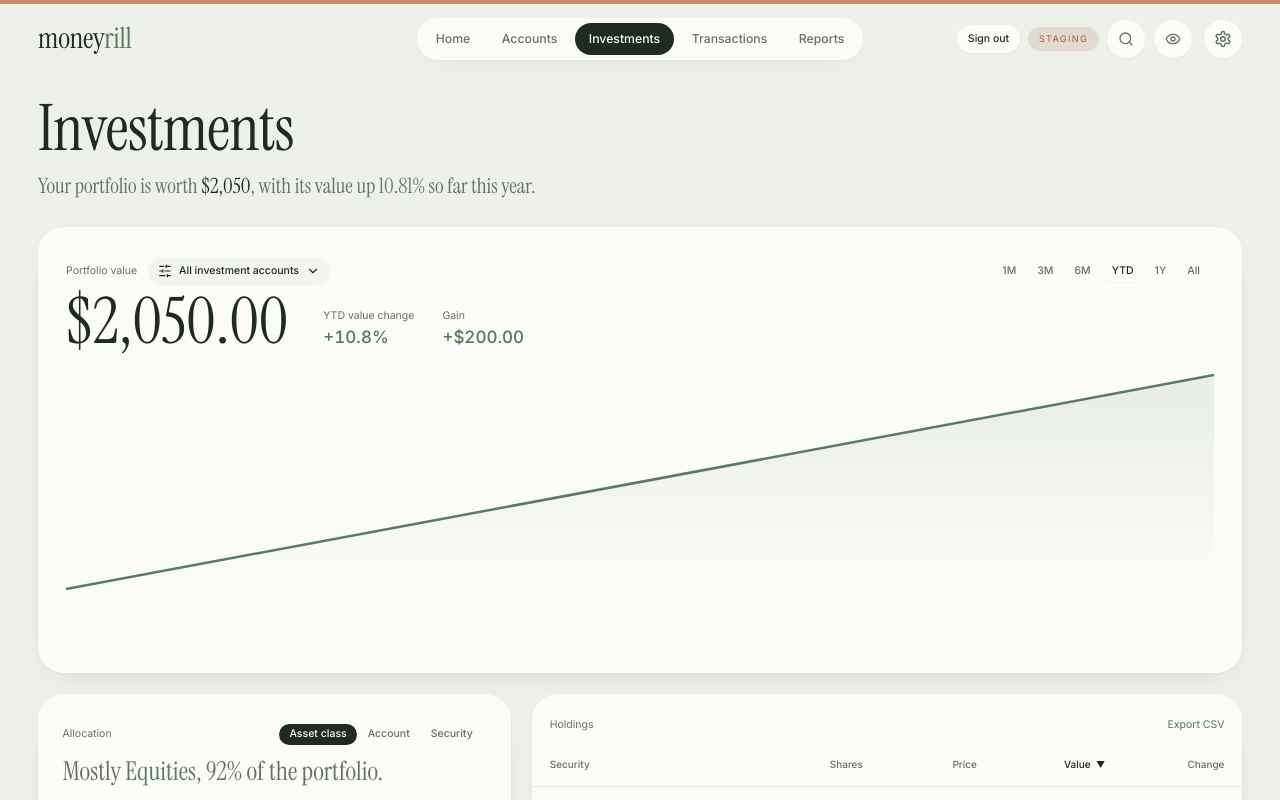
Test: Investment account picker › Clear goes back to every account
Expected: the text "Portfolio value" is shown, top-left (66, 264), bottom-right (137, 278)
Click the button "All investment accounts" at {"x": 239, "y": 271}, box top-left (148, 257), bottom-right (331, 285)
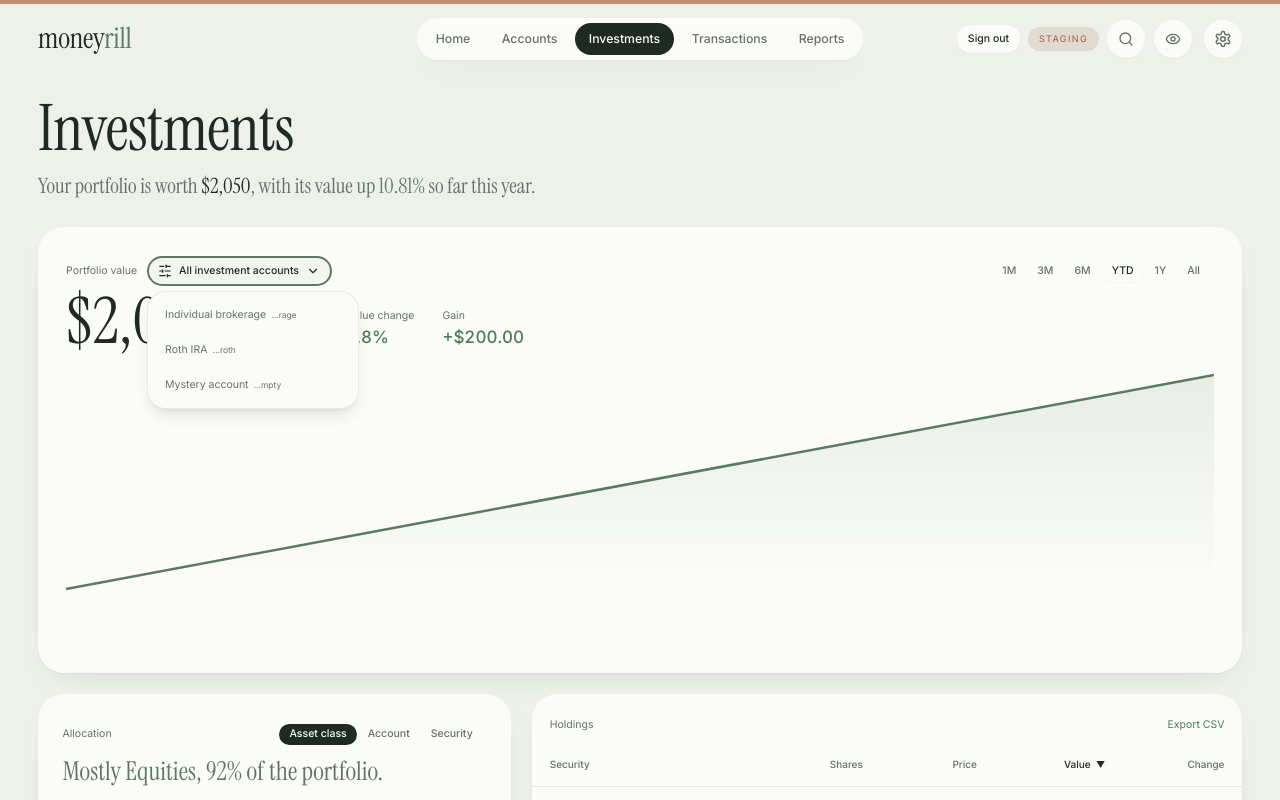
Click the button "Roth IRA…roth" at {"x": 253, "y": 350}, box top-left (155, 334), bottom-right (351, 366)
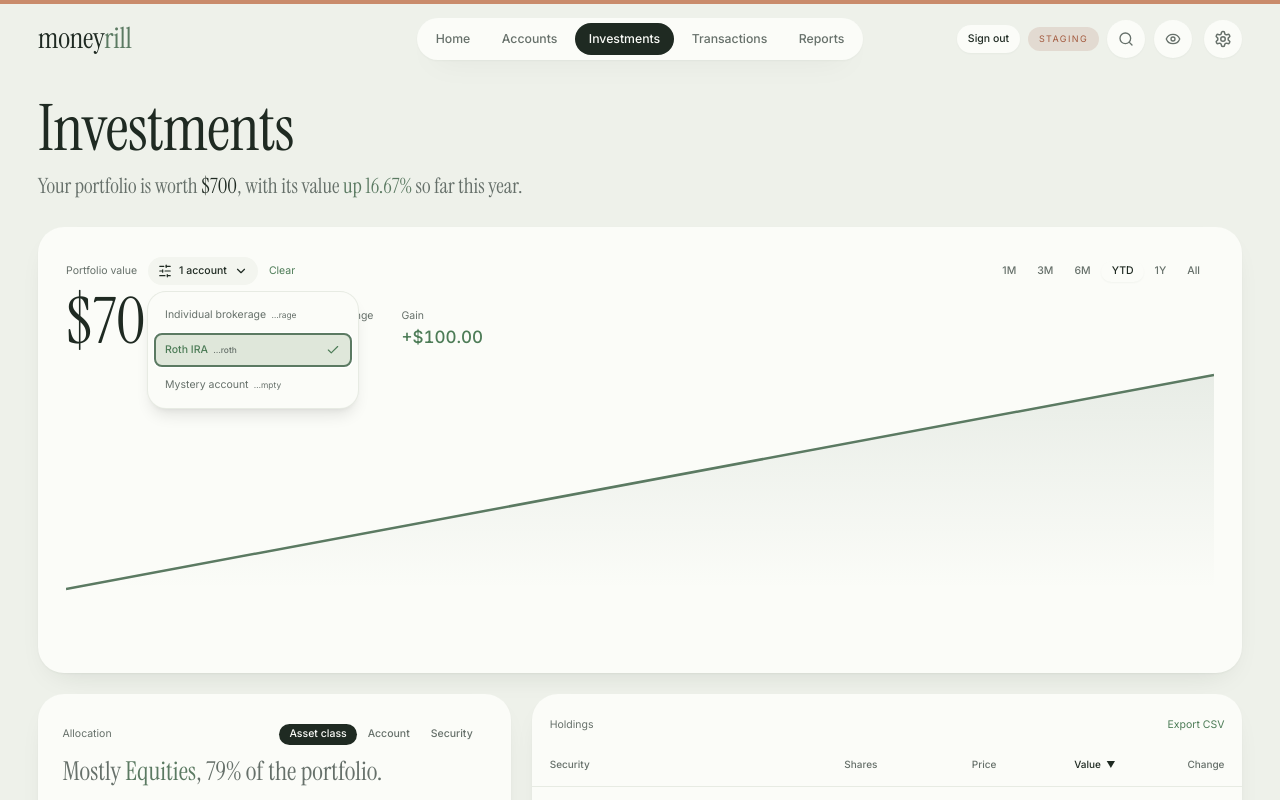
Click the button "Clear" at {"x": 282, "y": 271}, box top-left (269, 264), bottom-right (295, 278)
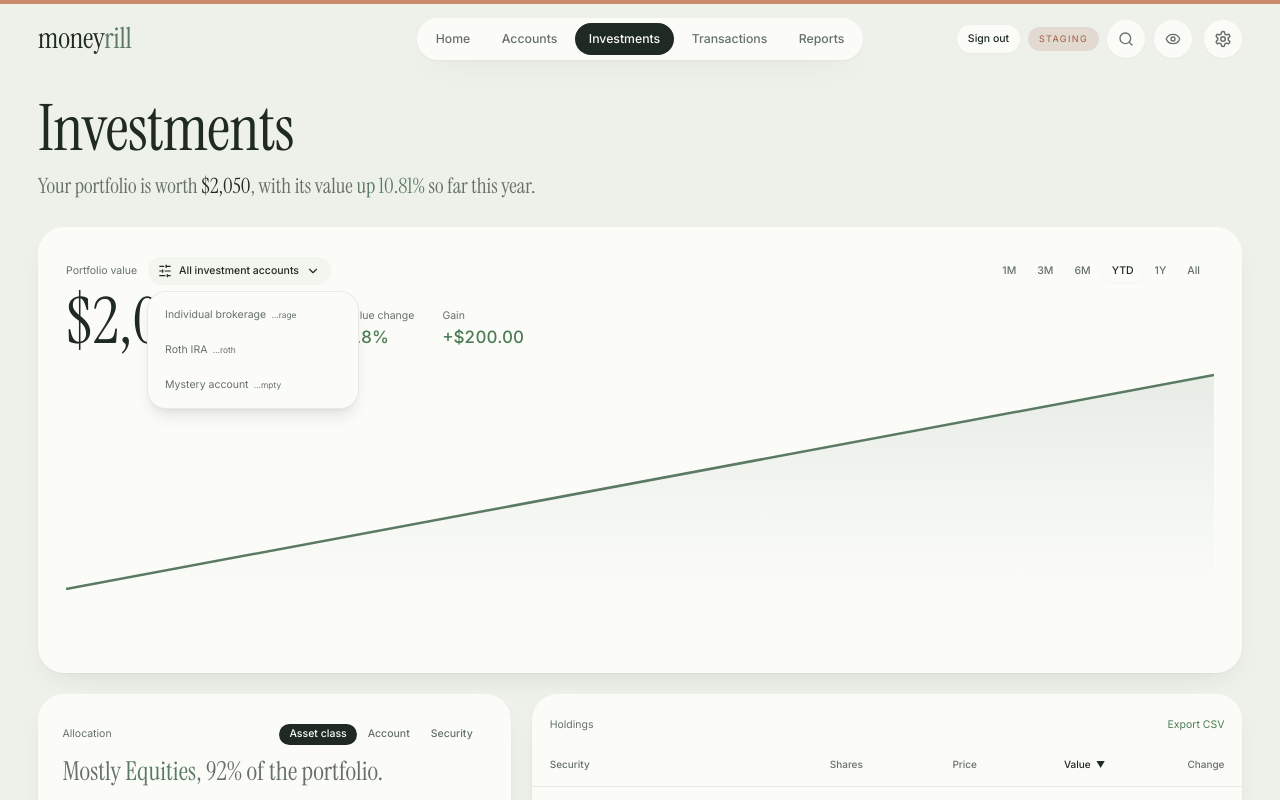
Expected: the button "Clear" is gone
Expected: the button "All investment accounts" is shown, top-left (148, 257), bottom-right (331, 285)
